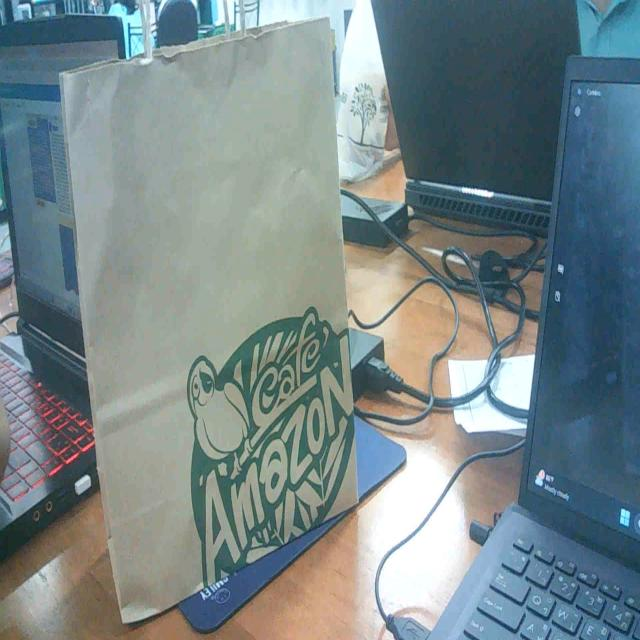bag: (45, 12, 381, 627)
